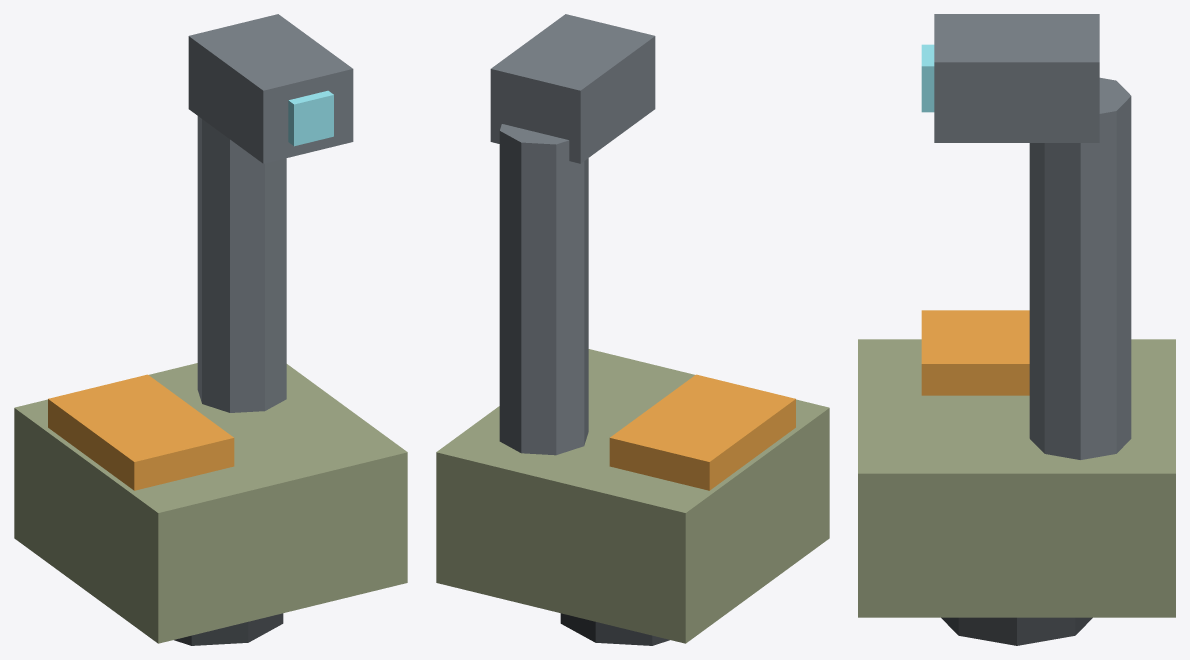
The model's file is mod-line-mech-head-26888.glb.
3 renders of one model, left to right at view 1: azimuth 30°, elevation 25°; view 2: azimuth 150°, elevation 25°; view 3: azimuth 270°, elevation 25°, orthographic. The views are drawn at different scales.
Size of the model in its own units: 2.11 by 4.43 by 2.11.
